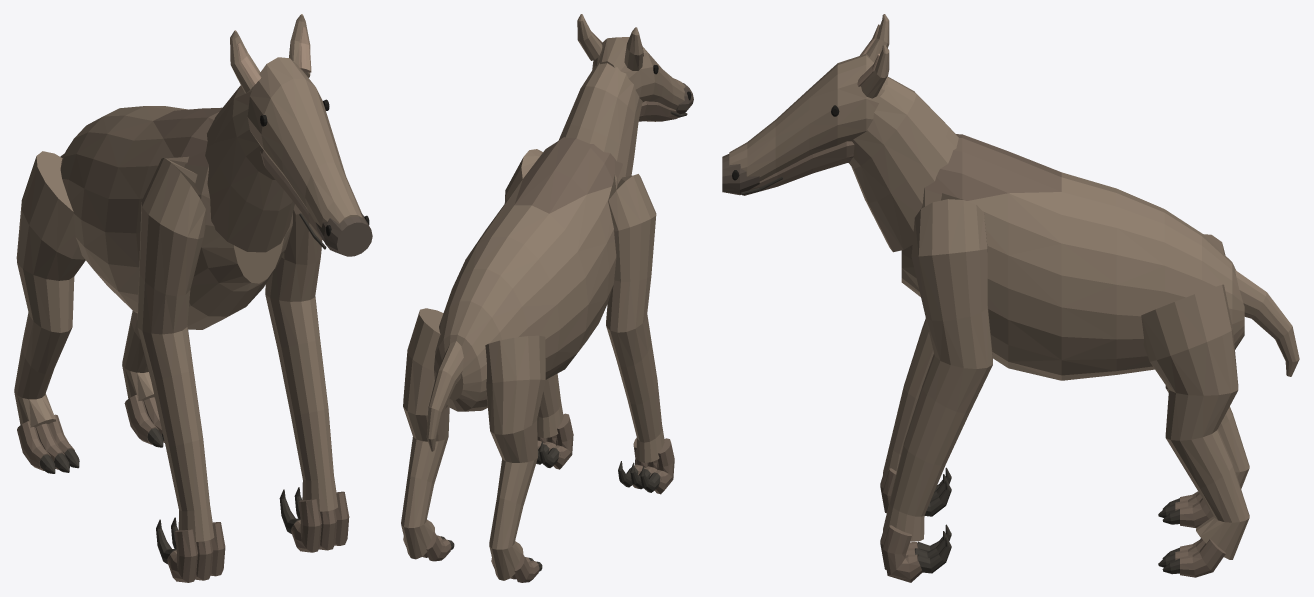
3 renders of one model, left to right at view 1: azimuth 30°, elevation 25°; view 2: azimuth 150°, elevation 25°; view 3: azimuth 270°, elevation 25°, orthographic. The views are drawn at different scales.
Parts seen in each view (by area): view 1: sloping-barrel-torso, left-powerful-forelimb, left-short-hindlimb, right-powerful-forelimb, elongate-cranium-and-face, short-upright-neck, right-curled-knuckle-digits, left-curled-knuckle-digits, left-three-hind-toes, right-short-hindlimb, soft-nasal-muzzle, right-three-hind-toes (+6 smaller); view 2: sloping-barrel-torso, left-powerful-forelimb, left-short-hindlimb, right-short-hindlimb, short-upright-neck, elongate-cranium-and-face, right-powerful-forelimb, short-tapered-tail, left-curled-knuckle-digits, right-curled-knuckle-digits, left-recurved-foreclaws, right-ear (+5 smaller); view 3: sloping-barrel-torso, right-powerful-forelimb, right-short-hindlimb, short-upright-neck, elongate-cranium-and-face, left-powerful-forelimb, short-tapered-tail, long-mandibular-body, right-curled-knuckle-digits, right-three-hind-toes, left-short-hindlimb, right-recurved-foreclaws (+3 smaller).
Boxes of the visible parts, bbox=[...] form: sloping-barrel-torso: bbox=[60, 106, 292, 329]; left-powerful-forelimb: bbox=[137, 156, 214, 541]; left-short-hindlimb: bbox=[14, 151, 85, 427]; right-powerful-forelimb: bbox=[265, 204, 338, 511]; elongate-cranium-and-face: bbox=[247, 57, 362, 227]; short-upright-neck: bbox=[205, 85, 294, 252]; right-curled-knuckle-digits: bbox=[291, 491, 349, 552]; left-curled-knuckle-digits: bbox=[167, 522, 225, 582]; left-three-hind-toes: bbox=[17, 414, 74, 470]; right-short-hindlimb: bbox=[122, 311, 154, 400]; soft-nasal-muzzle: bbox=[315, 211, 372, 256]; right-three-hind-toes: bbox=[124, 395, 164, 444]; sloping-barrel-torso: bbox=[434, 137, 625, 411]; left-powerful-forelimb: bbox=[606, 174, 664, 462]; left-short-hindlimb: bbox=[485, 335, 545, 580]; right-short-hindlimb: bbox=[401, 308, 449, 559]; short-upright-neck: bbox=[558, 63, 642, 176]; elongate-cranium-and-face: bbox=[592, 37, 685, 109]; right-powerful-forelimb: bbox=[504, 149, 563, 438]; short-tapered-tail: bbox=[426, 341, 463, 451]; left-curled-knuckle-digits: bbox=[632, 438, 674, 494]; right-curled-knuckle-digits: bbox=[536, 413, 573, 469]; left-recurved-foreclaws: bbox=[618, 461, 661, 492]; right-ear: bbox=[577, 14, 602, 60]; sloping-barrel-torso: bbox=[901, 134, 1244, 380]; right-powerful-forelimb: bbox=[883, 193, 992, 541]; right-short-hindlimb: bbox=[1141, 284, 1249, 559]; short-upright-neck: bbox=[848, 76, 958, 252]; elongate-cranium-and-face: bbox=[729, 54, 887, 181]; left-powerful-forelimb: bbox=[883, 318, 933, 477]; short-tapered-tail: bbox=[1235, 270, 1299, 376]; long-mandibular-body: bbox=[743, 141, 854, 195]; right-curled-knuckle-digits: bbox=[880, 525, 922, 582]; right-three-hind-toes: bbox=[1175, 538, 1225, 577]; left-short-hindlimb: bbox=[1165, 234, 1249, 488]; right-recurved-foreclaws: bbox=[915, 524, 951, 573].
Bounding box in the file's own units: 0.9003 × 2.76 × 2.79.
